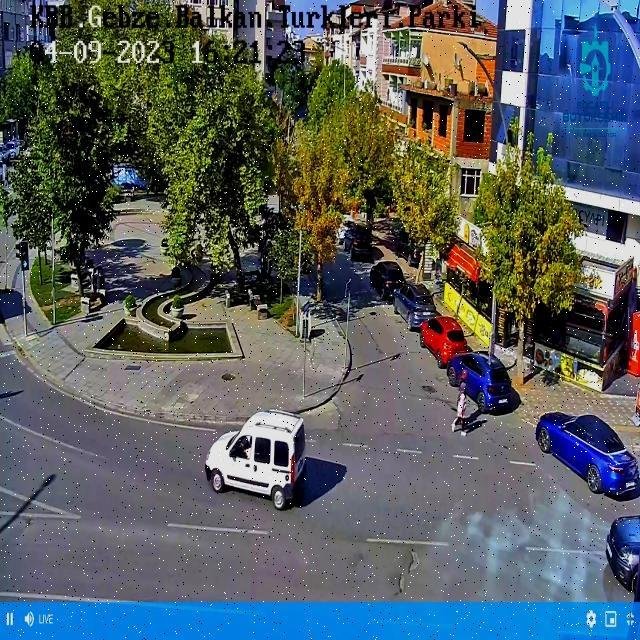Car: (535, 410, 640, 499), (448, 349, 512, 410), (603, 512, 640, 596), (420, 318, 468, 368), (394, 282, 436, 330), (372, 260, 405, 298), (186, 274, 200, 276)
Van: (204, 407, 306, 512)
